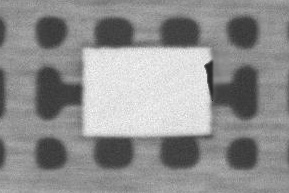DIE_BROKEN: (203, 59, 214, 103)
